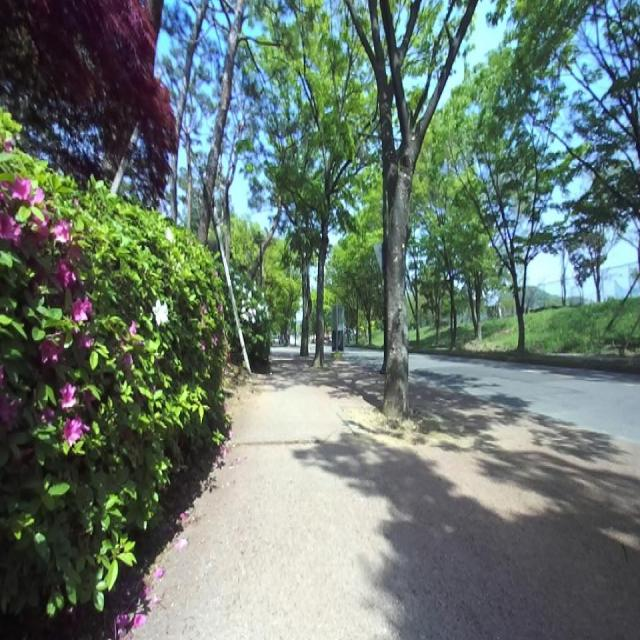sidewalk: (130, 352, 640, 639)
